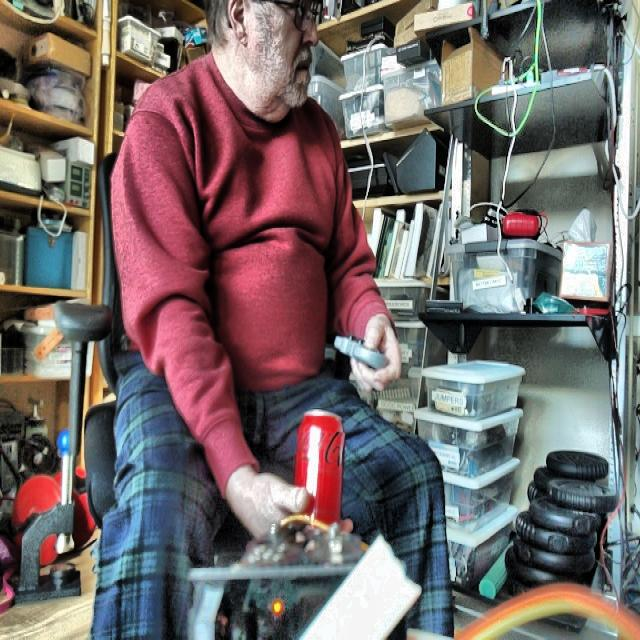Can: (295, 411, 343, 523)
